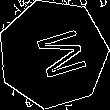M_W: (22, 25, 84, 83)
